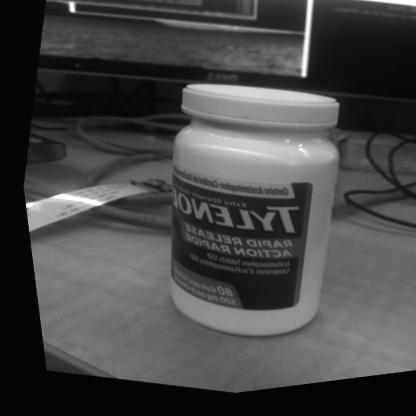jar: (162, 84, 343, 340)
